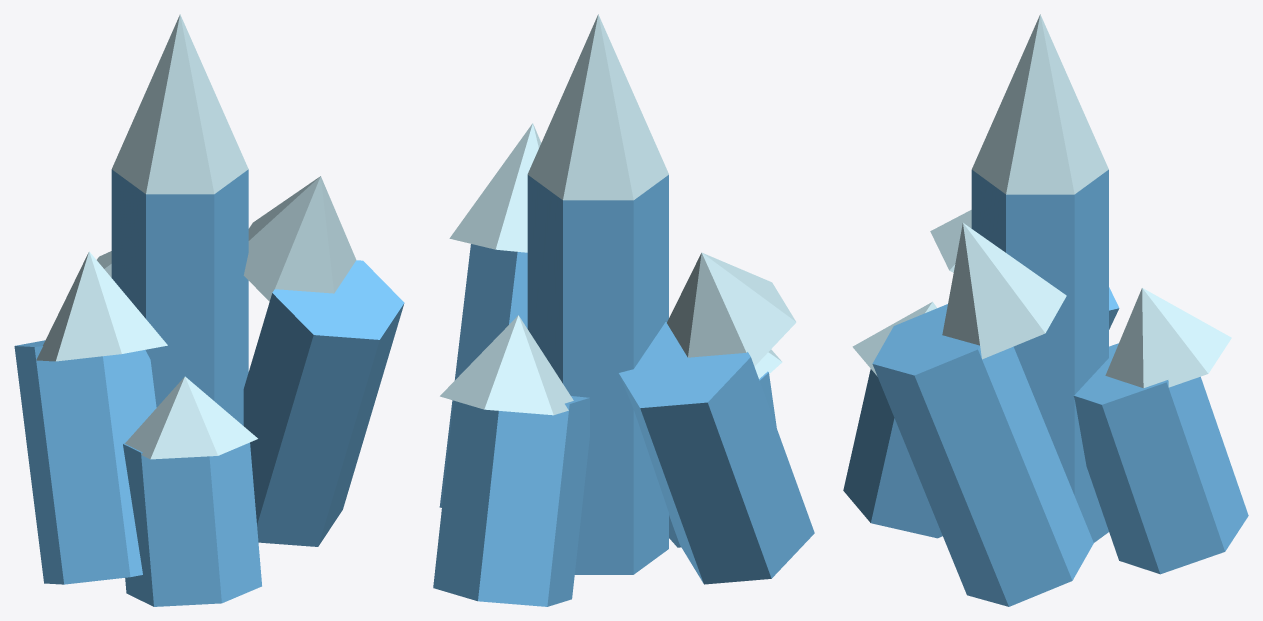
Rendered from Crystal.fbx.
3 renders of one model, left to right at view 1: azimuth 30°, elevation 25°; view 2: azimuth 150°, elevation 25°; view 3: azimuth 270°, elevation 25°, orthographic. The views are drawn at different scales.
Visible parts, largest first — view 1: Crystal; view 2: Crystal; view 3: Crystal.
Boxes of the visible parts, x1=… form: Crystal: x1=14, y1=14, x2=404, y2=606; Crystal: x1=433, y1=14, x2=814, y2=606; Crystal: x1=843, y1=14, x2=1248, y2=606.
Size of the model in its own units: 656 by 1030 by 709.
